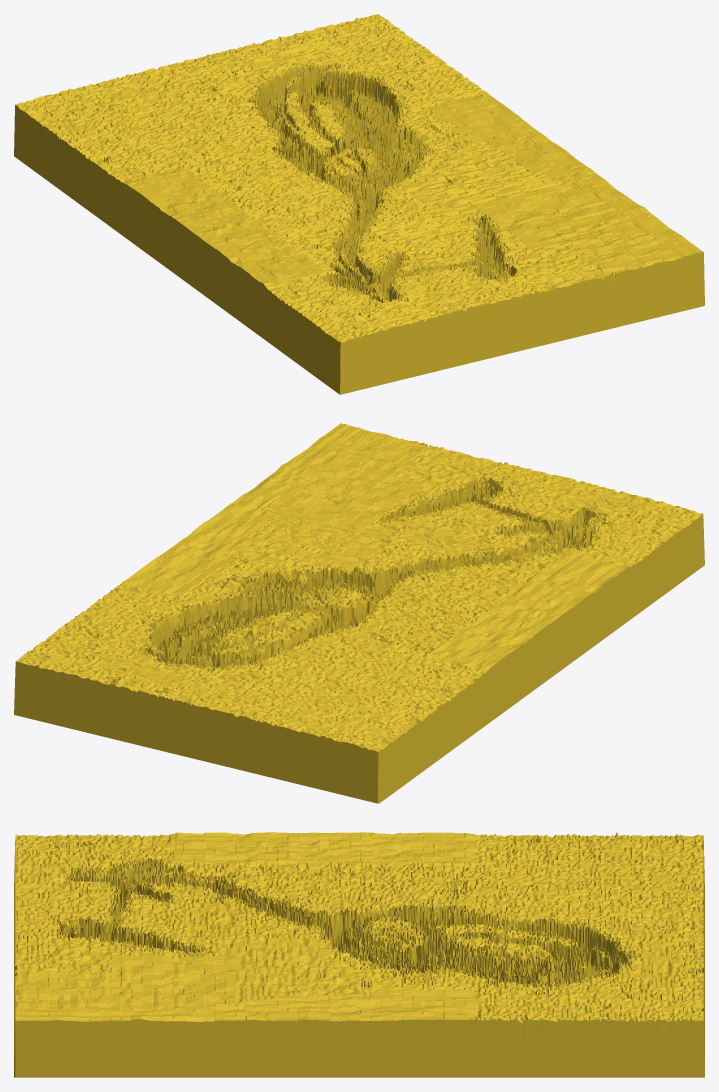
The model's file is 25ArtFlor_passflora_003 decimate COR.glb.
The picture shows the model from 3 angles, top to bottom: view 1: azimuth 30°, elevation 25°; view 2: azimuth 150°, elevation 25°; view 3: azimuth 270°, elevation 25°; orthographic projection. The views are drawn at different scales.
Visible parts, largest first — view 1: SIBI UFRJ livro botanica passiflora; view 2: SIBI UFRJ livro botanica passiflora; view 3: SIBI UFRJ livro botanica passiflora.
Boxes of the visible parts, box(x1,y1,x2,y2) form: SIBI UFRJ livro botanica passiflora: box(14, 14, 704, 394); SIBI UFRJ livro botanica passiflora: box(14, 423, 704, 803); SIBI UFRJ livro botanica passiflora: box(14, 832, 704, 1077).
Size of the model in its own units: 64.72 by 9.88 by 100.
